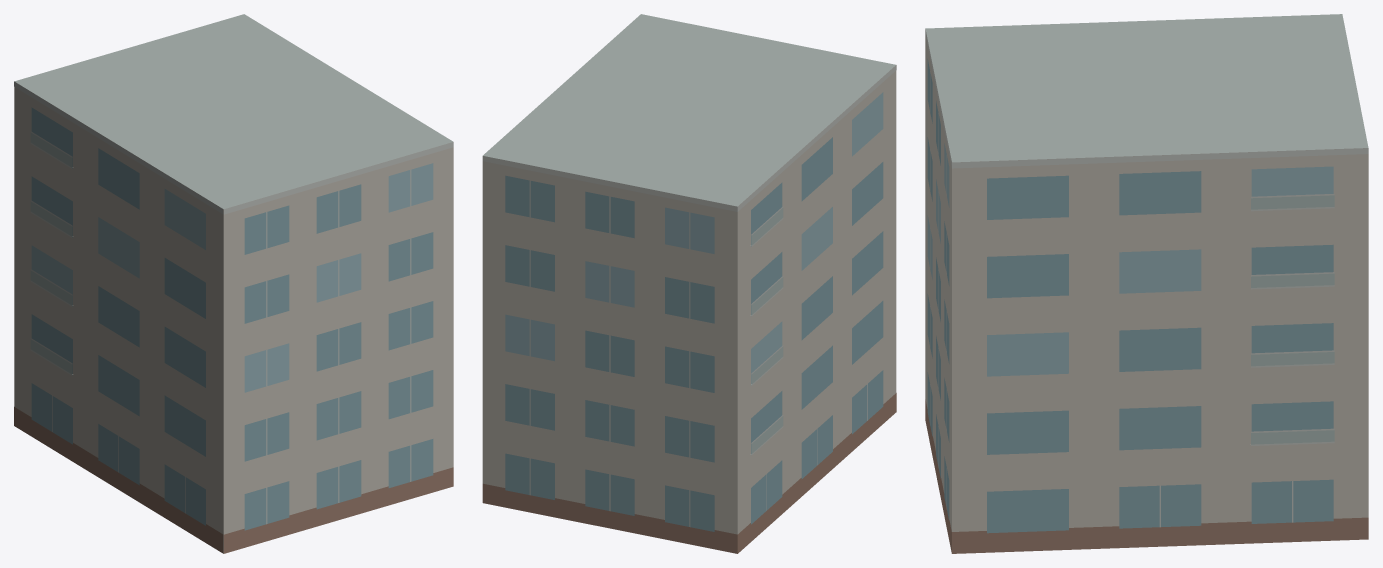
The model's file is survey-upis-32724811.glb.
The picture shows the model from 3 angles, left to right: view 1: azimuth 30°, elevation 25°; view 2: azimuth 150°, elevation 25°; view 3: azimuth 270°, elevation 25°; orthographic projection. The views are drawn at different scales.
Visible parts, largest first — view 1: survey-upis-32724811.tmp; view 2: survey-upis-32724811.tmp; view 3: survey-upis-32724811.tmp.
Boxes of the visible parts, box(x1,y1,x2,y2) form: survey-upis-32724811.tmp: box(14, 14, 453, 553); survey-upis-32724811.tmp: box(482, 14, 896, 553); survey-upis-32724811.tmp: box(925, 14, 1368, 553).
Bounding box in the file's own units: 12.69 × 15.6 × 16.01.
